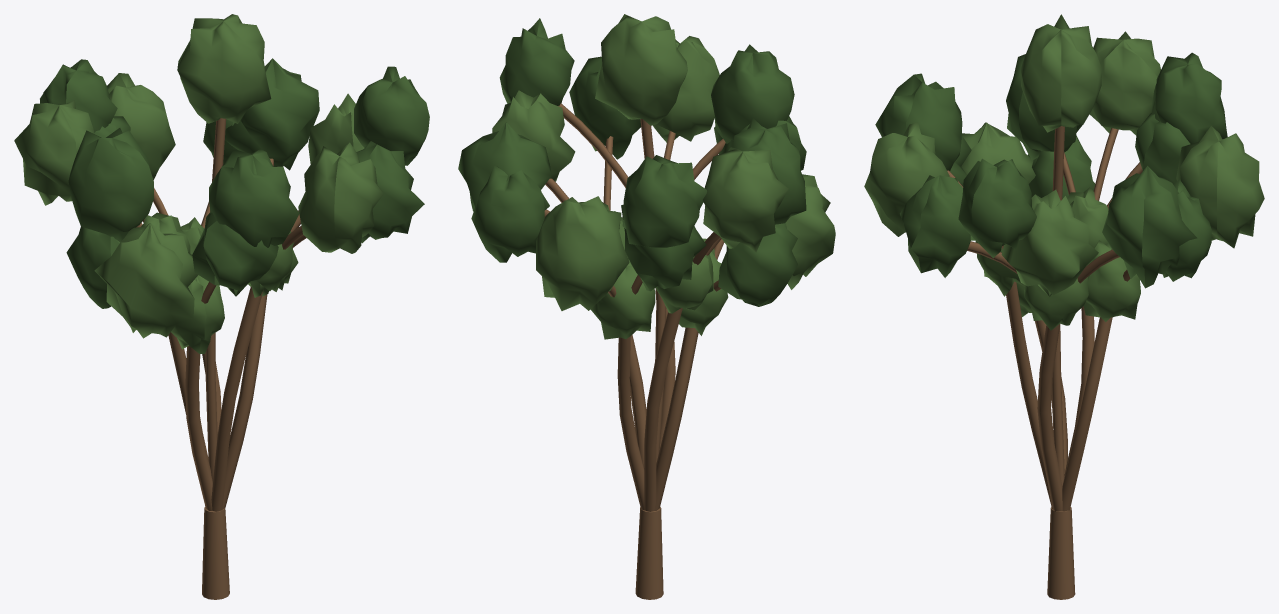
Rendered from acer-shishigashira.glb.
3 views of the same model, side by side, from view 1: azimuth 30°, elevation 25°; view 2: azimuth 150°, elevation 25°; view 3: azimuth 270°, elevation 25° (orthographic).
Visible parts, largest first — view 1: korona-15, korona-21, korona-18, korona-11, korona-12, korona-6, korona-19, korona-10, korona-14, korona-3, korona-8, vazag-3 (+11 smaller); view 2: korona-3, korona-21, korona-19, korona-20, korona-12, korona-4, korona-16, korona-10, korona-6, korona-11, korona-7, korona-18 (+15 smaller); view 3: korona-21, korona-6, korona-3, korona-7, korona-10, korona-19, korona-11, korona-8, korona-20, korona-12, korona-1, vazag-2 (+15 smaller).
Boxes of the visible parts, box(x1,y1,x2,y2) form: korona-15: box(94, 222, 197, 338); korona-21: box(177, 14, 271, 123); korona-18: box(68, 128, 153, 242); korona-11: box(298, 142, 383, 253); korona-12: box(209, 149, 299, 247); korona-6: box(225, 58, 319, 170); korona-19: box(14, 100, 94, 205); korona-10: box(354, 66, 429, 165); korona-14: box(192, 212, 278, 296); korona-3: box(107, 73, 175, 179); korona-8: box(356, 141, 424, 243); vazag-3: box(211, 286, 263, 511); korona-3: box(536, 196, 629, 310); korona-21: box(595, 14, 687, 125); korona-19: box(702, 147, 788, 252); korona-20: box(622, 155, 706, 247); korona-12: box(711, 44, 794, 143); korona-4: box(471, 165, 544, 262); korona-16: box(718, 222, 797, 306); korona-10: box(499, 18, 574, 105); korona-6: box(458, 122, 551, 211); korona-11: box(653, 36, 719, 142); korona-7: box(492, 90, 575, 181); korona-18: box(732, 118, 806, 224); korona-21: box(1020, 14, 1101, 132); korona-6: box(1102, 166, 1197, 288); korona-3: box(1176, 126, 1264, 248); korona-7: box(1001, 189, 1098, 296); korona-10: box(958, 158, 1036, 258); korona-19: box(1089, 31, 1160, 135); korona-11: box(864, 122, 949, 236); korona-8: box(900, 175, 970, 277); korona-20: box(1151, 52, 1227, 143); korona-12: box(875, 73, 962, 170); korona-1: box(1083, 240, 1140, 321); vazag-2: box(1037, 324, 1062, 511).
Bounding box in the file's own units: 1.84 × 3 × 1.91.
